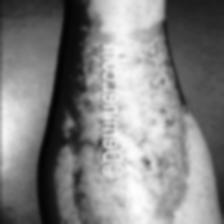Unclassified: (121, 0, 183, 224), (54, 0, 99, 224), (81, 188, 163, 224)
